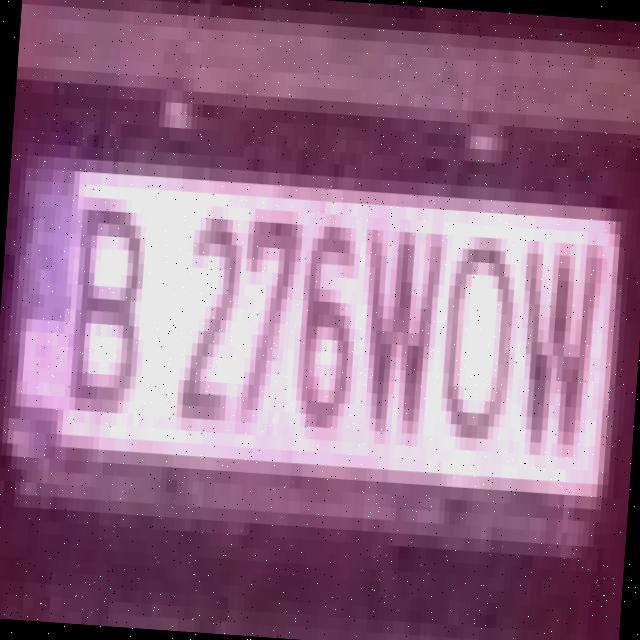Autre: (0, 143, 626, 546)
